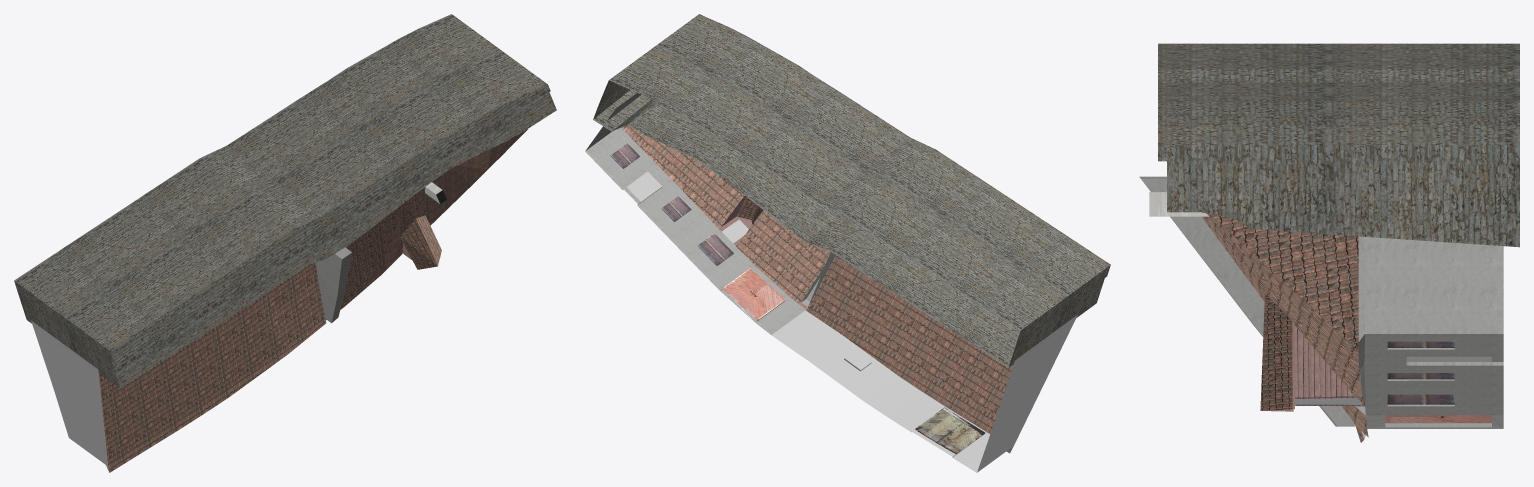
Rendered from Laboratooriumi_23.obj.
The picture shows the model from 3 angles, left to right: view 1: azimuth 30°, elevation 25°; view 2: azimuth 150°, elevation 25°; view 3: azimuth 270°, elevation 25°; orthographic projection. The views are drawn at different scales.
Parts seen in each view (by area): view 1: Laboratooriumi_23; view 2: Laboratooriumi_23; view 3: Laboratooriumi_23.
Boxes of the visible parts, box(x1,y1,x2,y2) form: Laboratooriumi_23: box(14, 14, 556, 472); Laboratooriumi_23: box(585, 14, 1110, 472); Laboratooriumi_23: box(1139, 43, 1519, 442).
Bounding box in the file's own units: 26.99 × 18.25 × 10.02.
